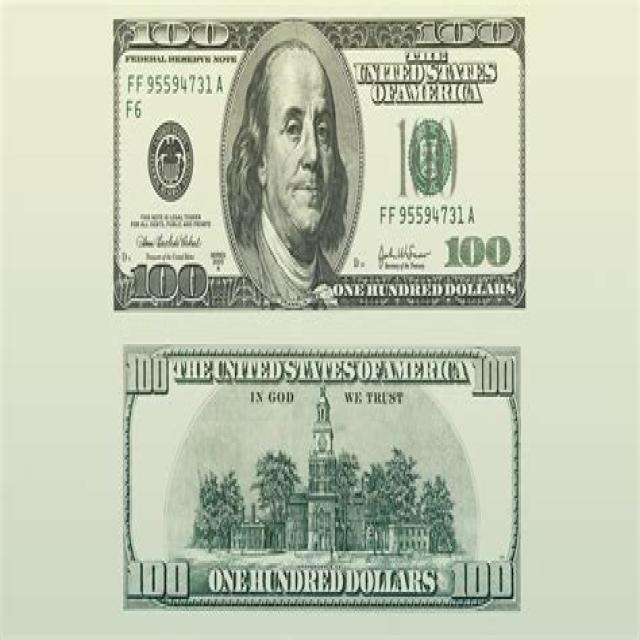Hundred: (108, 7, 531, 324)
